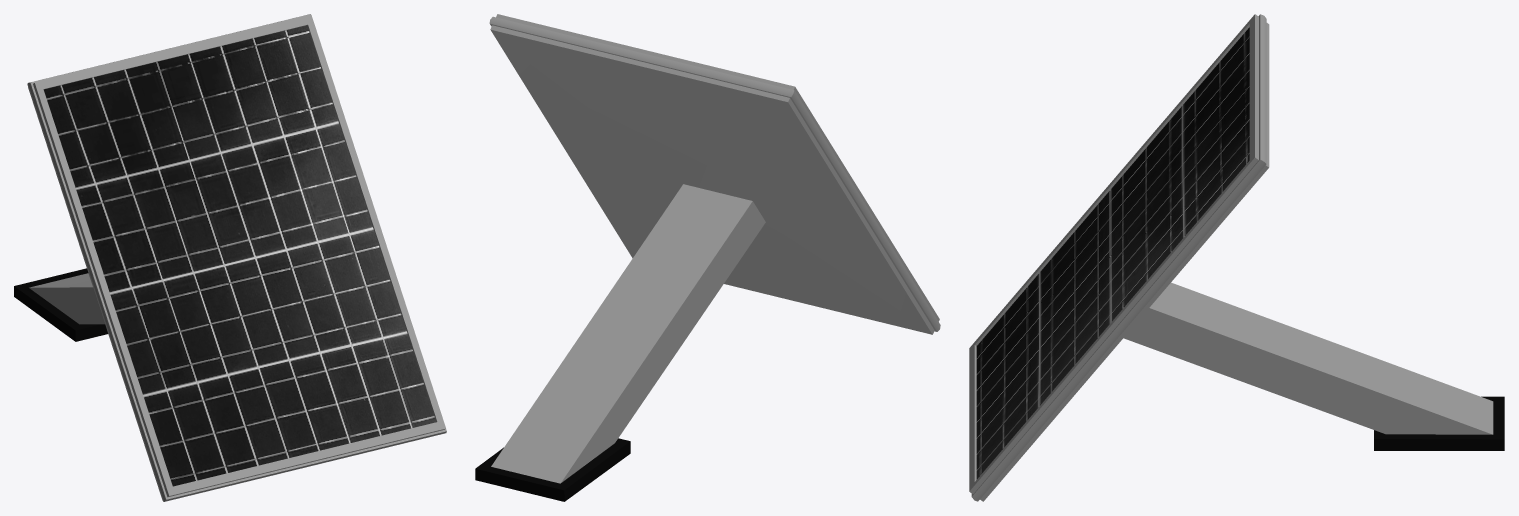
The model's file is solar.glb.
The picture shows the model from 3 angles, left to right: view 1: azimuth 30°, elevation 25°; view 2: azimuth 150°, elevation 25°; view 3: azimuth 270°, elevation 25°; orthographic projection. The views are drawn at different scales.
Visible parts, largest first — view 1: objSolar; view 2: objSolar; view 3: objSolar.
Part boxes in pixels (bbox=[...]): objSolar: bbox=[14, 14, 446, 501]; objSolar: bbox=[475, 14, 940, 501]; objSolar: bbox=[969, 14, 1504, 501].
Size of the model in its own units: 8.5 by 9.34 by 13.16.
3 materials, 1 textured.
